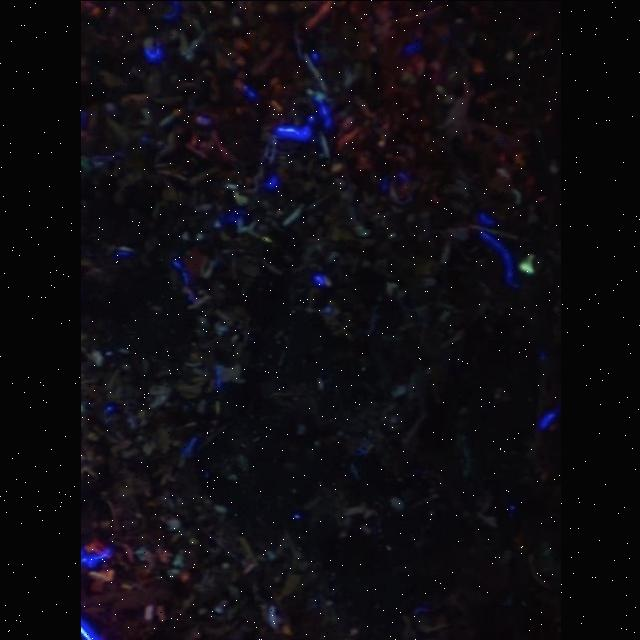microbeads: (517, 252, 535, 274)
